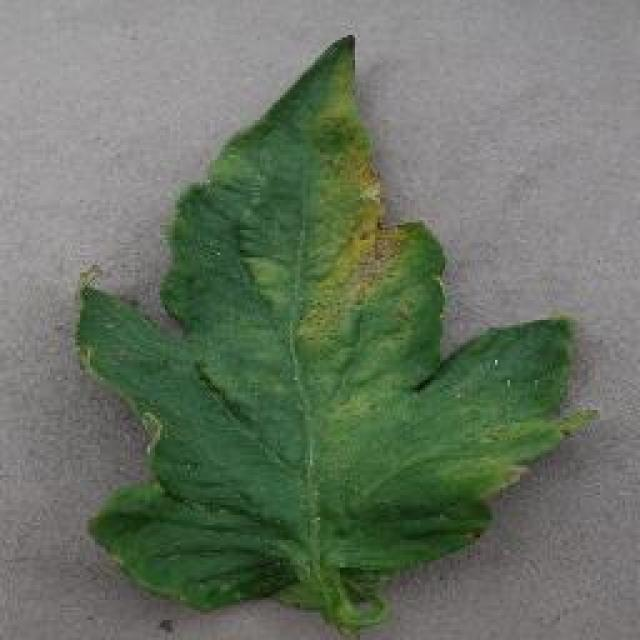Tomato bacterial spot leaf: (80, 42, 580, 630)
